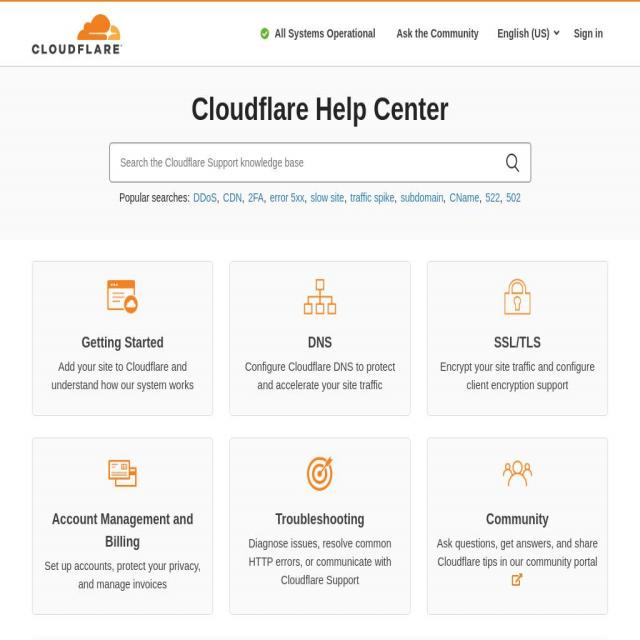language: (492, 10, 562, 50)
navigation-blocks: (26, 243, 610, 615)
navigation-links: (255, 20, 619, 62)
search: (102, 136, 536, 212)
